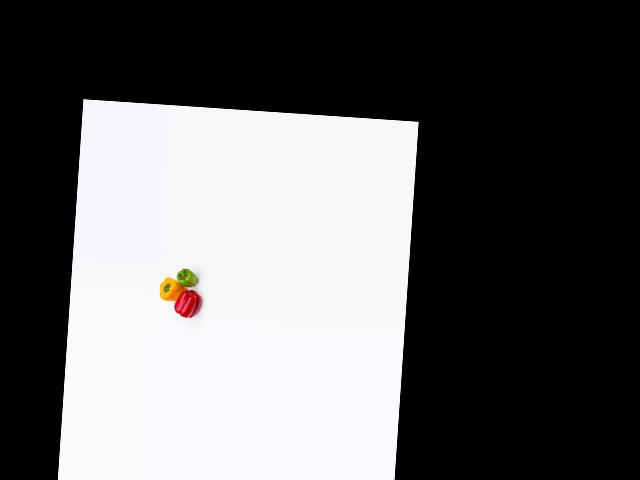bell_pepper: (174, 263, 199, 288)
